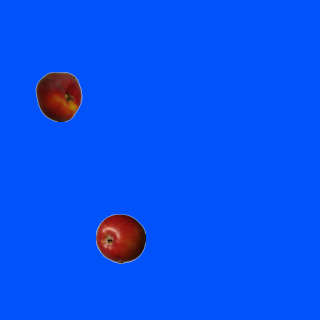Apple Braeburn: (95, 213, 145, 263)
Nectarine Flat: (33, 71, 83, 121)
